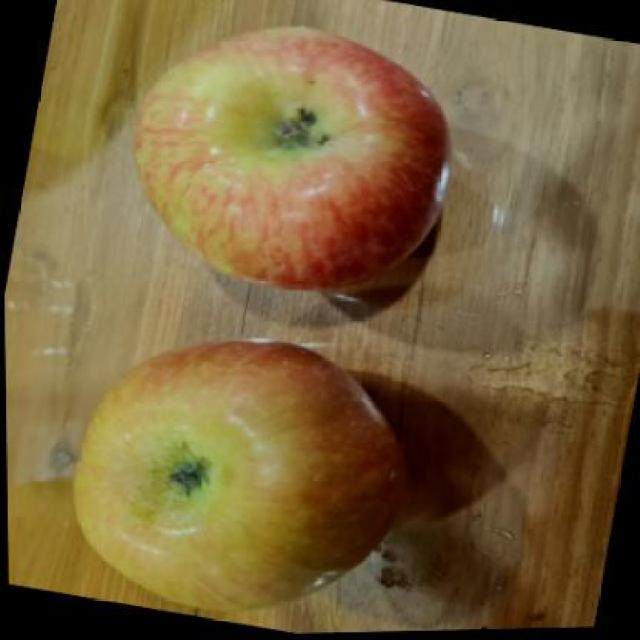Fresh Apple: (58, 337, 409, 624), (132, 28, 448, 292)
